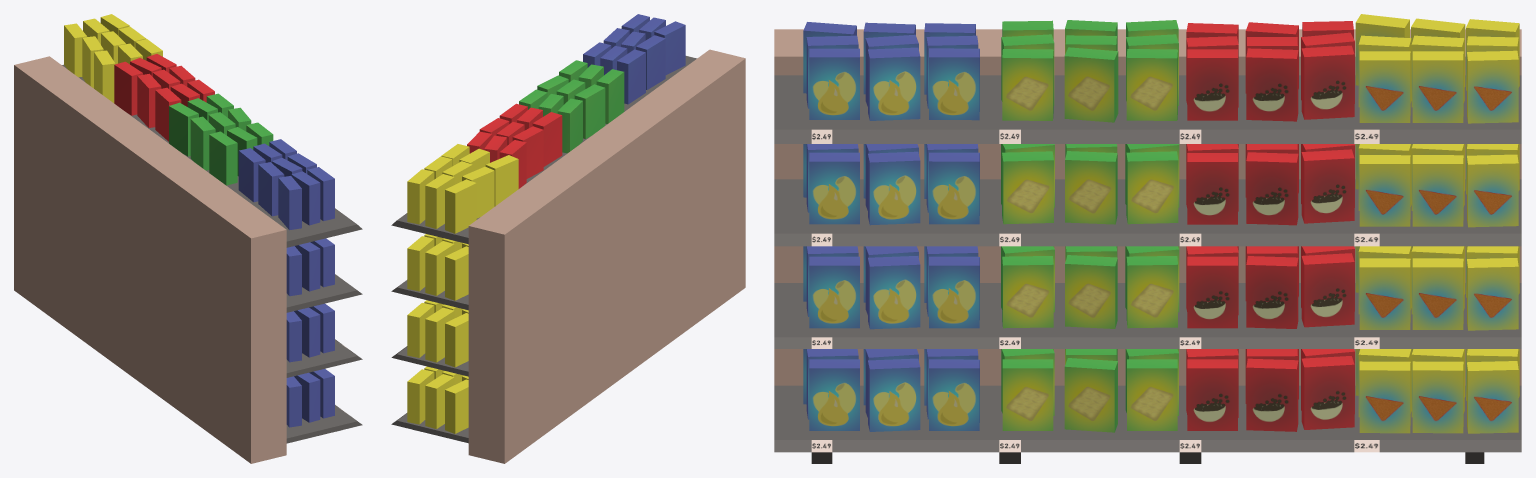
The model's file is GroceryShelf.fbx.
3 renders of one model, left to right at view 1: azimuth 30°, elevation 25°; view 2: azimuth 150°, elevation 25°; view 3: azimuth 270°, elevation 25°, orthographic. The views are drawn at different scales.
Visible parts, largest first — view 1: pCube1, pCube65, pCube101, pCube29, pCube71, pCube37, pCube34, pCube30, pCube70, pCube108, pCube144, pCube3 (+21 smaller); view 2: pCube1, pCube144, pCube37, pCube116, pCube70, pCube126, pCube135, pCube29, pCube136, pCube127, pCube145, pCube117 (+22 smaller); view 3: pCube1, pCube68, pCube85, pCube94, pCube43, pCube103, pCube82, pCube98, pCube107, pCube79, pCube7, pCube59 (+76 smaller).
Part boxes in pixels (<box>): pCube1: <box>14,56,362,463</box>; pCube65: <box>209,131,237,185</box>; pCube101: <box>114,61,142,115</box>; pCube29: <box>278,176,301,230</box>; pCube71: <box>169,102,198,156</box>; pCube37: <box>238,148,265,202</box>; pCube34: <box>258,162,284,216</box>; pCube30: <box>291,171,320,225</box>; pCube70: <box>190,116,215,170</box>; pCube108: <box>137,73,161,127</box>; pCube144: <box>64,23,87,77</box>; pCube3: <box>294,372,320,422</box>; pCube1: <box>391,49,745,463</box>; pCube144: <box>445,179,476,233</box>; pCube37: <box>617,49,645,104</box>; pCube116: <box>445,379,468,433</box>; pCube70: <box>574,84,605,138</box>; pCube126: <box>445,313,468,367</box>; pCube135: <box>445,246,468,300</box>; pCube29: <box>654,21,685,74</box>; pCube136: <box>425,241,454,295</box>; pCube127: <box>425,307,454,362</box>; pCube145: <box>425,174,454,228</box>; pCube117: <box>425,374,454,428</box>; pCube1: <box>774,29,1521,463</box>; pCube68: <box>1064,47,1118,122</box>; pCube85: <box>1301,253,1354,327</box>; pCube94: <box>1301,149,1354,223</box>; pCube43: <box>1064,358,1117,432</box>; pCube103: <box>1301,45,1354,119</box>; pCube82: <box>1301,356,1354,429</box>; pCube98: <box>1246,152,1298,225</box>; pCube107: <box>1246,48,1298,121</box>; pCube79: <box>1246,358,1298,431</box>; pCube7: <box>868,358,920,431</box>; pCube59: <box>1065,151,1117,224</box>.
Size of the model in its own units: 2.01 by 4.38 by 7.4.
